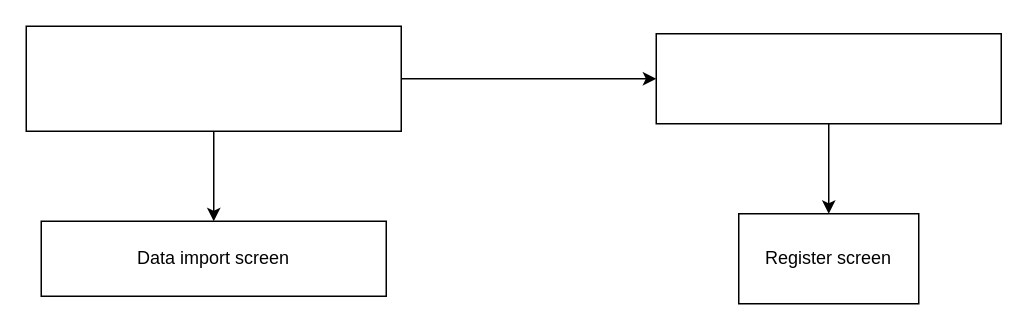
Some shapes in this 1028 by 330 pixel diagram are drawn without their labels. Here are the shapes that lost their labels. From the top down, the box of each, then its label:
(25, 25, 401, 131): Main View
(655, 32, 1001, 124): Login Screen
